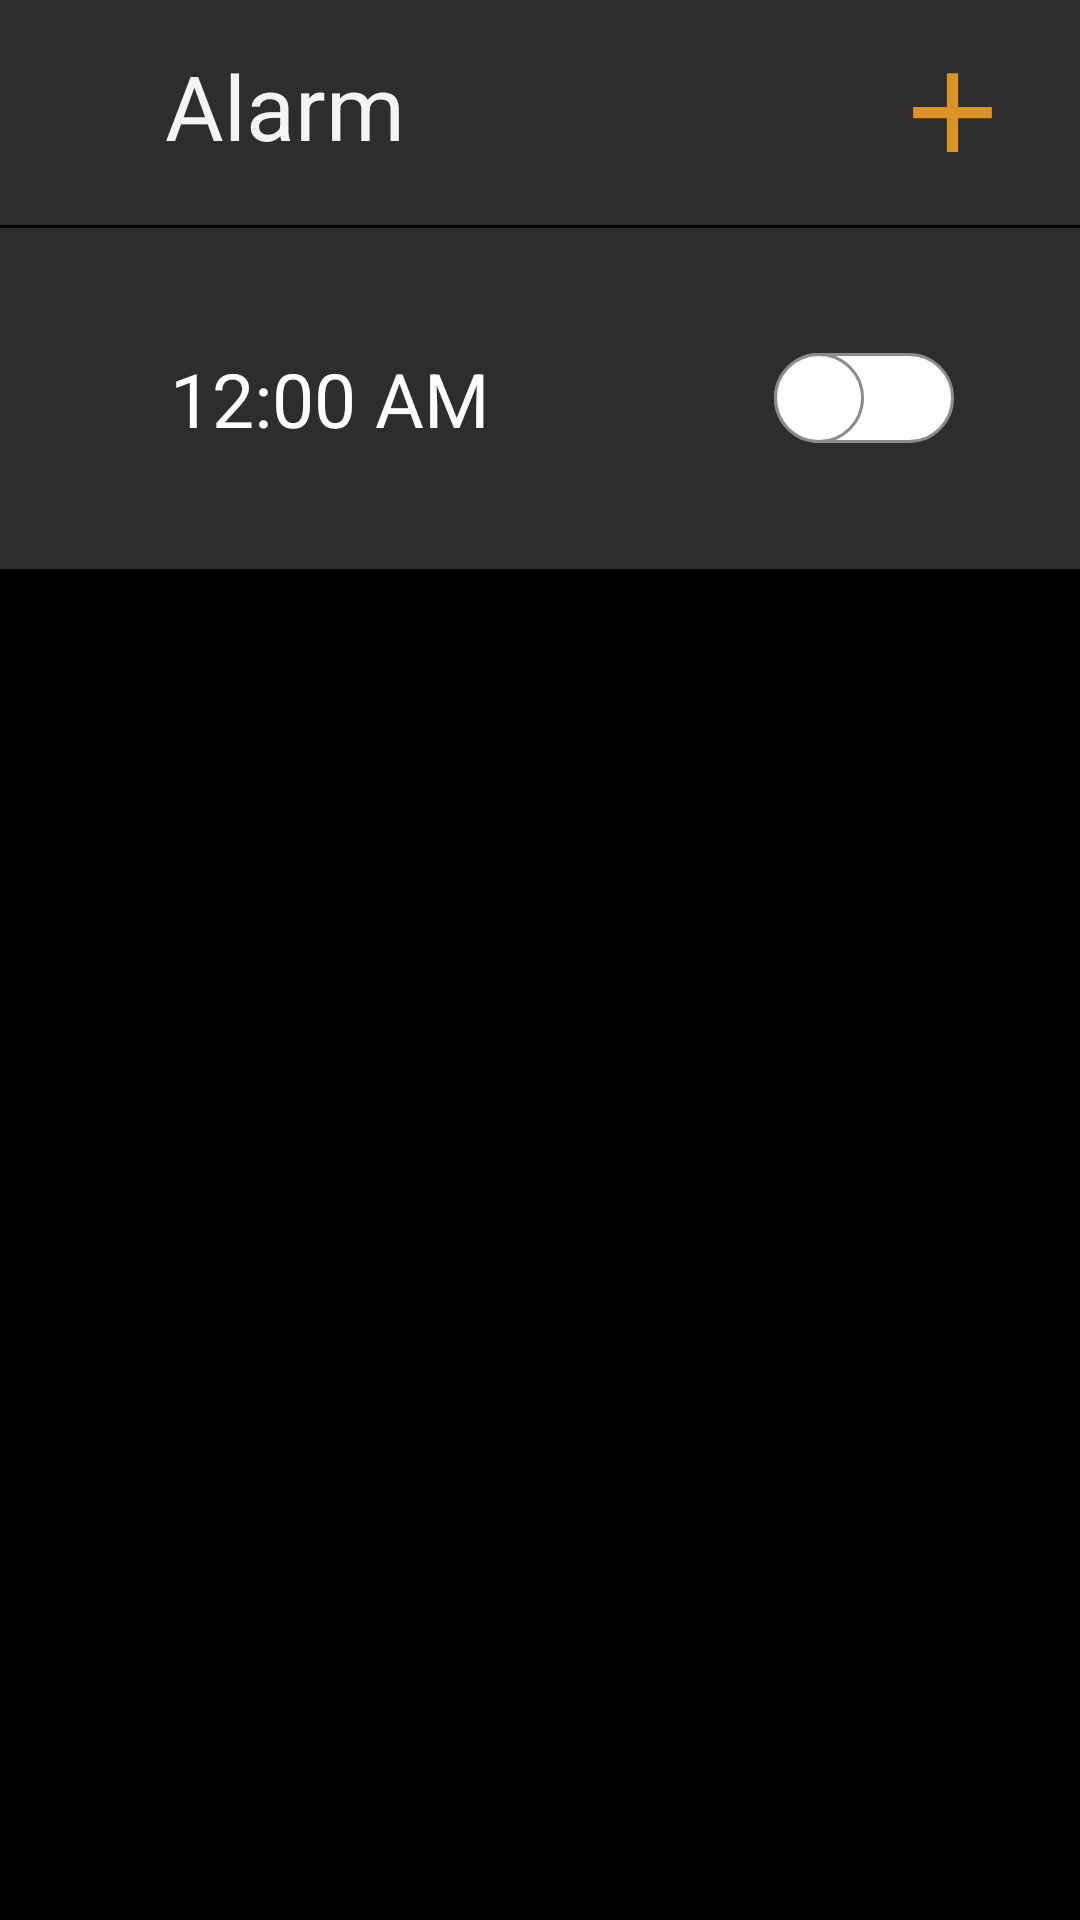

Icons on this 1080w x 1920h Android screen, each with its box as {"left": x1, "top": y1, "right": x2, "bottom": y2}:
To set Alarm: {"left": 913, "top": 73, "right": 992, "bottom": 152}
